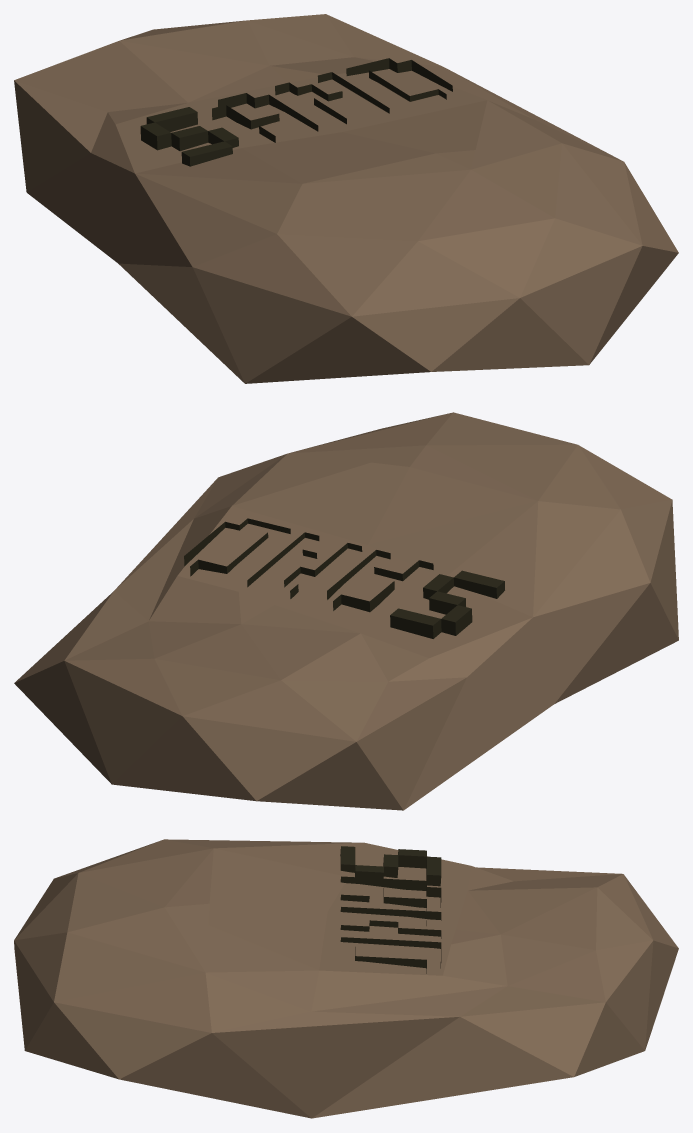
The model's file is Zandzak.fbx.
The picture shows the model from 3 angles, top to bottom: view 1: azimuth 30°, elevation 25°; view 2: azimuth 150°, elevation 25°; view 3: azimuth 270°, elevation 25°; orthographic projection. The views are drawn at different scales.
Visible parts, largest first — view 1: Icosphere, Icosphere.001; view 2: Icosphere, Icosphere.001; view 3: Icosphere, Icosphere.001.
Part boxes in pixels (x1=…): Icosphere: x1=14, y1=14, x2=678, y2=383; Icosphere.001: x1=140, y1=58, x2=452, y2=166; Icosphere: x1=14, y1=412, x2=678, y2=810; Icosphere.001: x1=184, y1=518, x2=504, y2=638; Icosphere: x1=14, y1=839, x2=678, y2=1118; Icosphere.001: x1=340, y1=846, x2=441, y2=973.
Bounding box in the file's own units: 175 × 62.23 × 267.
